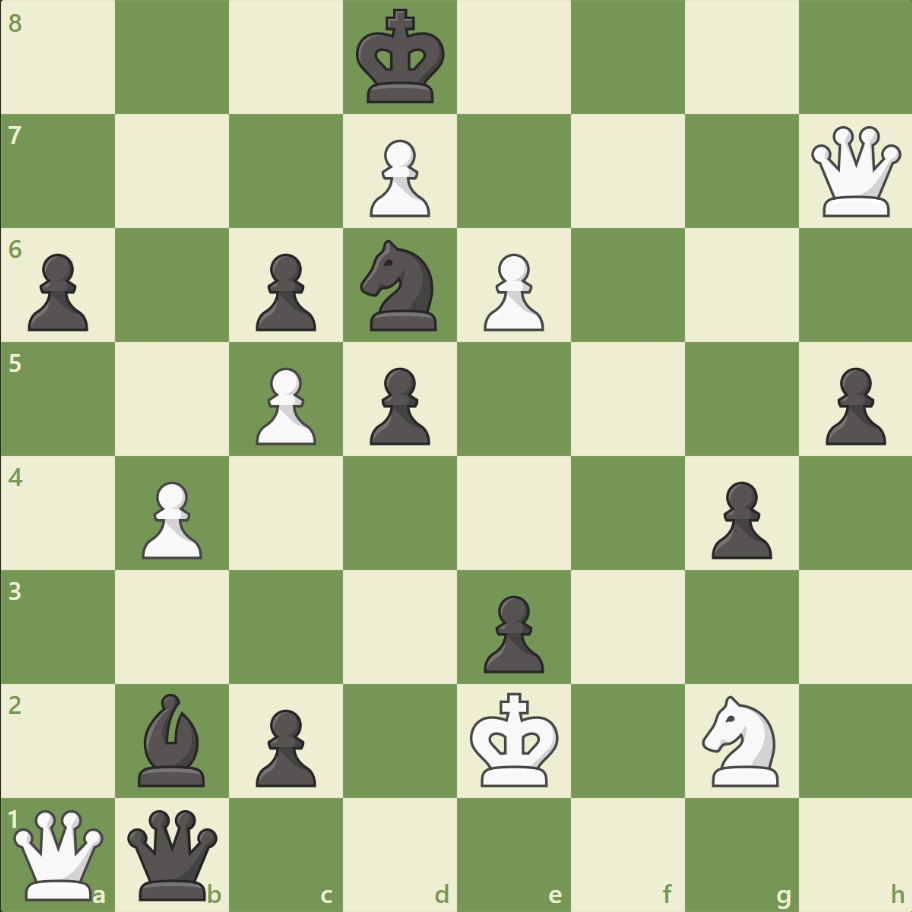K: (465, 685, 565, 793)
N: (692, 688, 789, 791)
P: (474, 246, 549, 337), (247, 359, 322, 450), (133, 473, 208, 564), (361, 132, 435, 223)
Q: (805, 122, 904, 222), (10, 804, 109, 903)
b: (131, 687, 215, 790)
k: (351, 4, 451, 112)
n: (351, 234, 449, 337)
p: (20, 246, 95, 337), (247, 246, 322, 337), (701, 473, 776, 564), (474, 586, 549, 677), (247, 700, 322, 791), (361, 359, 435, 450), (815, 359, 889, 450)
q: (124, 804, 223, 903)
